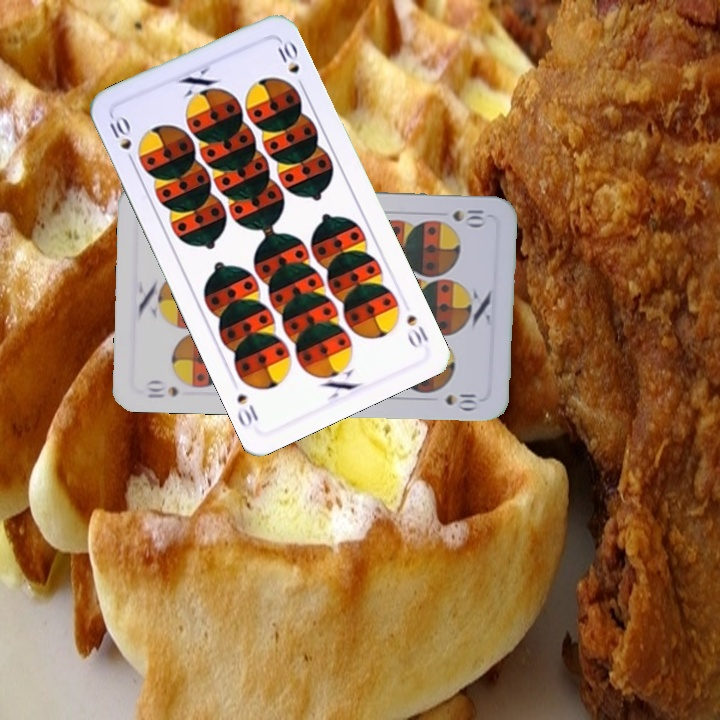S10: (104, 110, 144, 168), (402, 310, 431, 350), (142, 377, 181, 401), (449, 206, 486, 227)
